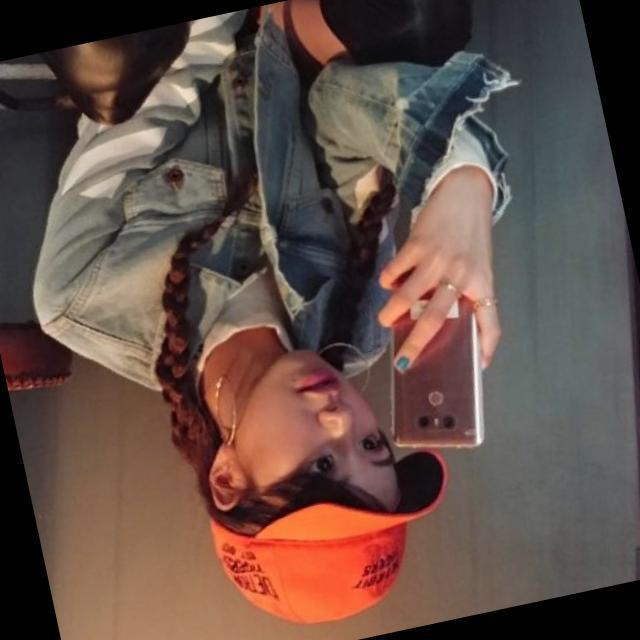lens: (414, 408, 455, 434)
phone: (383, 263, 486, 451)
